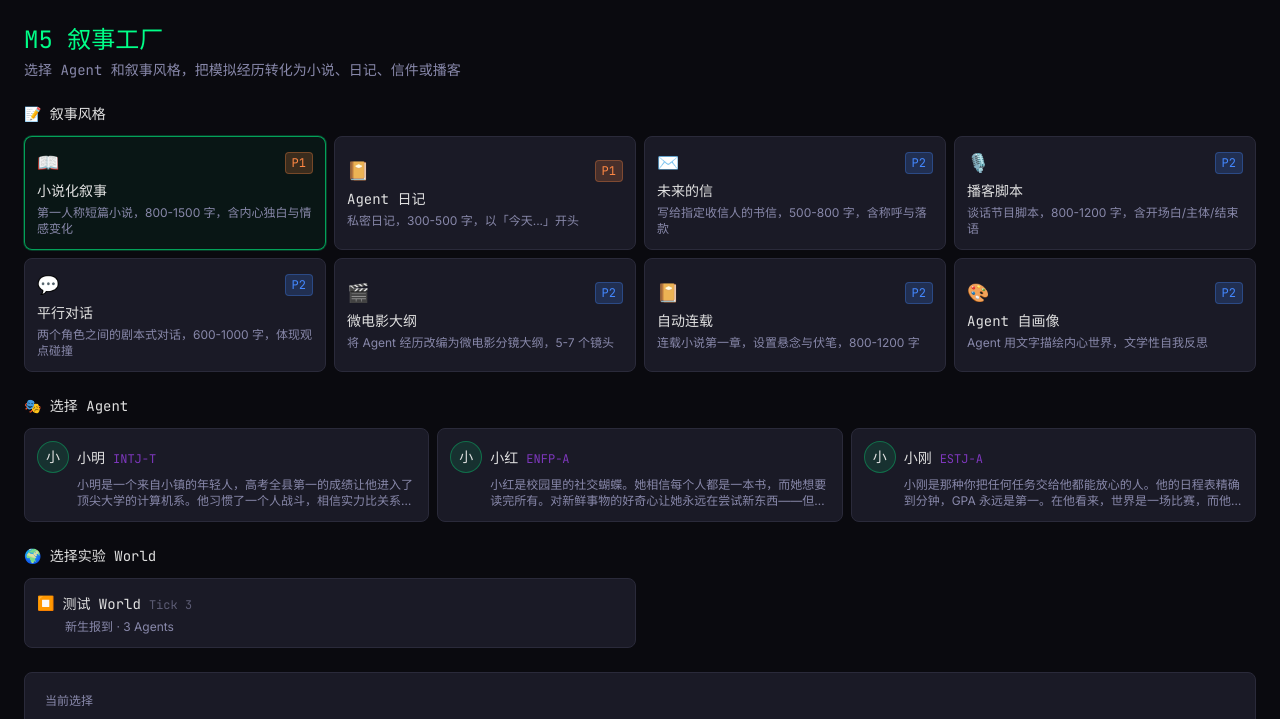
Step 23 NarrativeFactory — setup phase › disables generate button until agent and world are selected
The width and height of the screenshot is (1280, 719).
Click the button "小明" at (227, 475), box [24,428,429,522]
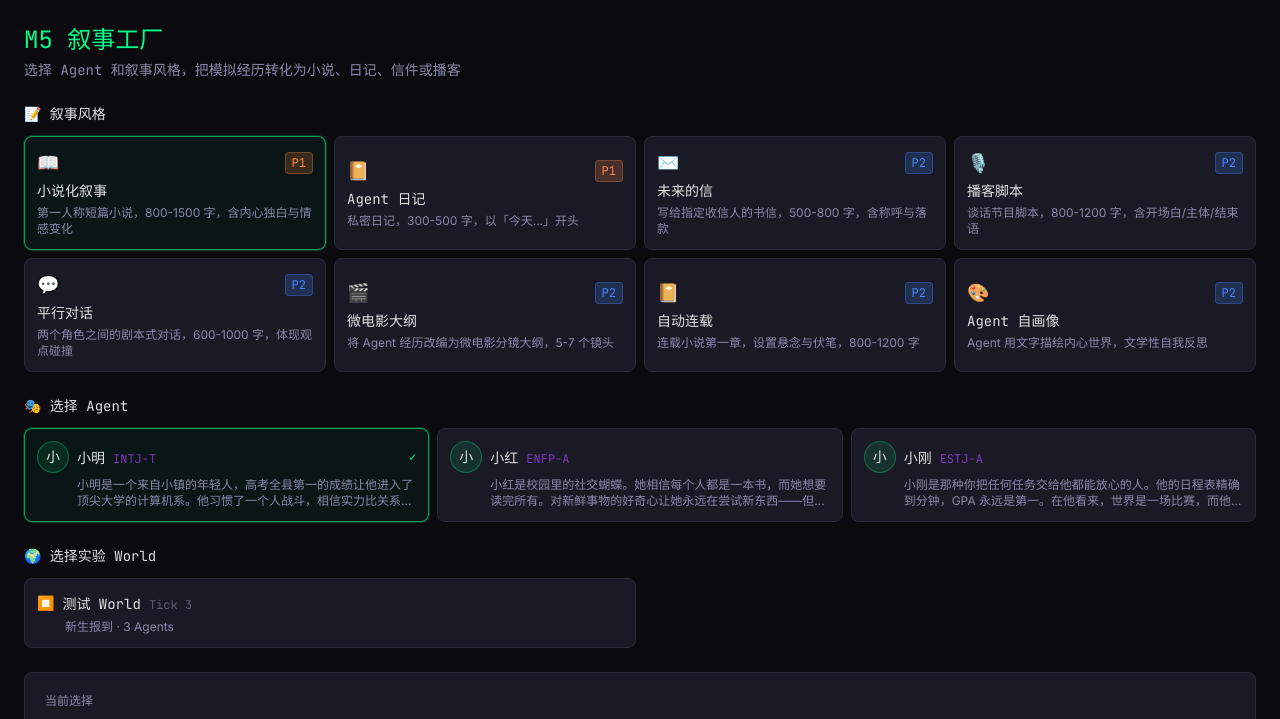
Click the button "测试 World" at (102, 604), box [24,578,636,648]
(page scrolled)
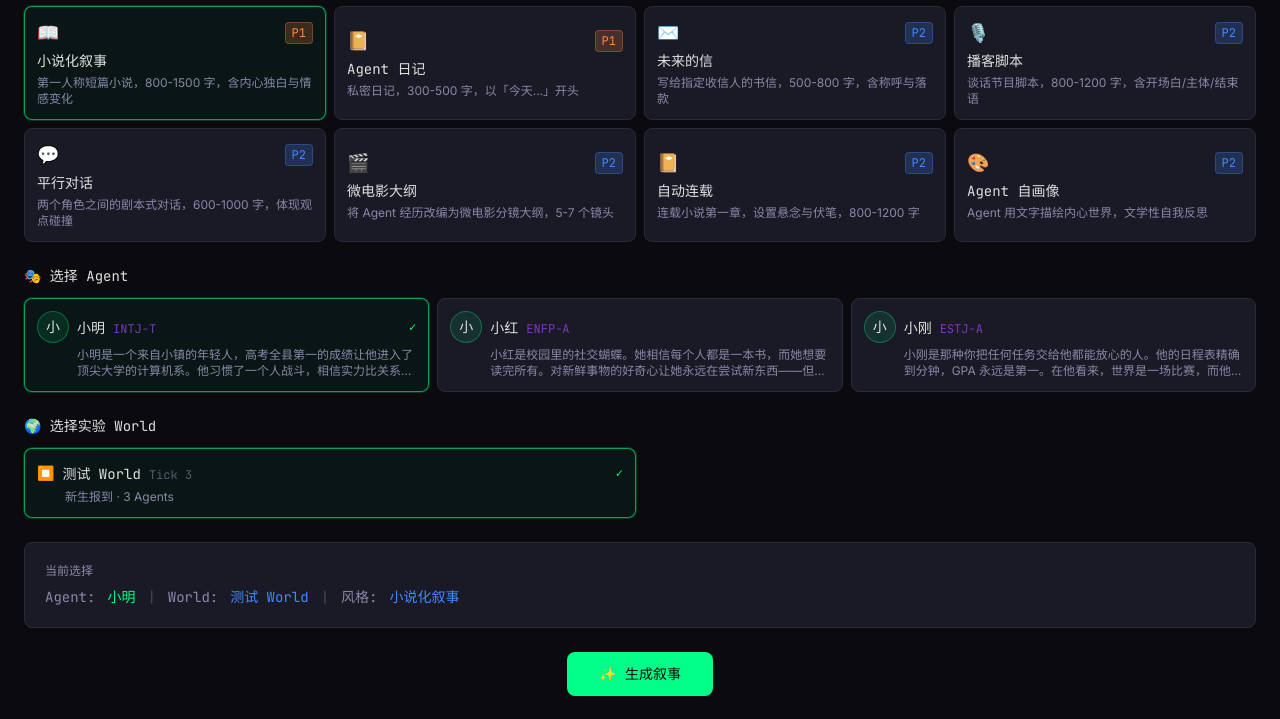
Expected: the button "✨ 生成叙事" is enabled, [567,652,713,696]
